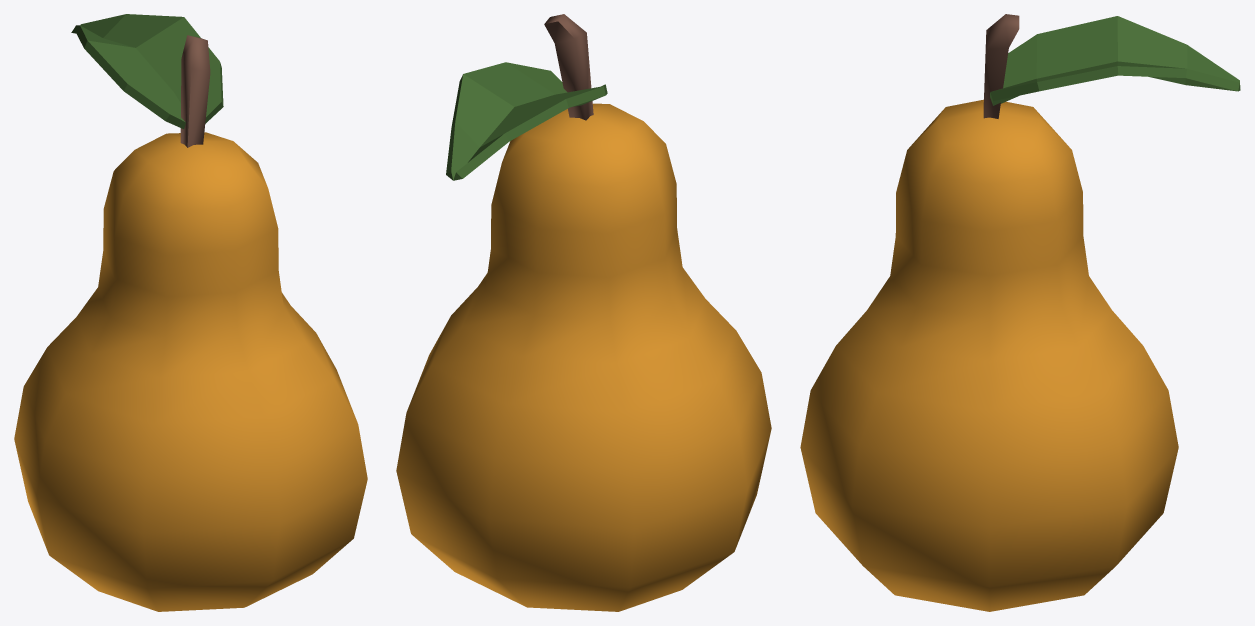
The model's file is green_12.glb.
3 views of the same model, side by side, from view 1: azimuth 30°, elevation 25°; view 2: azimuth 150°, elevation 25°; view 3: azimuth 270°, elevation 25° (orthographic). The views are drawn at different scales.
Parts seen in each view (by area): view 1: green_12; view 2: green_12; view 3: green_12.
Part boxes in pixels (x1=…): green_12: x1=14, y1=14, x2=367, y2=611; green_12: x1=396, y1=14, x2=771, y2=611; green_12: x1=800, y1=14, x2=1240, y2=611.
Bounding box in the file's own units: 0.1398 × 0.2339 × 0.1626.
Materials: 1 (1 with a texture image).
